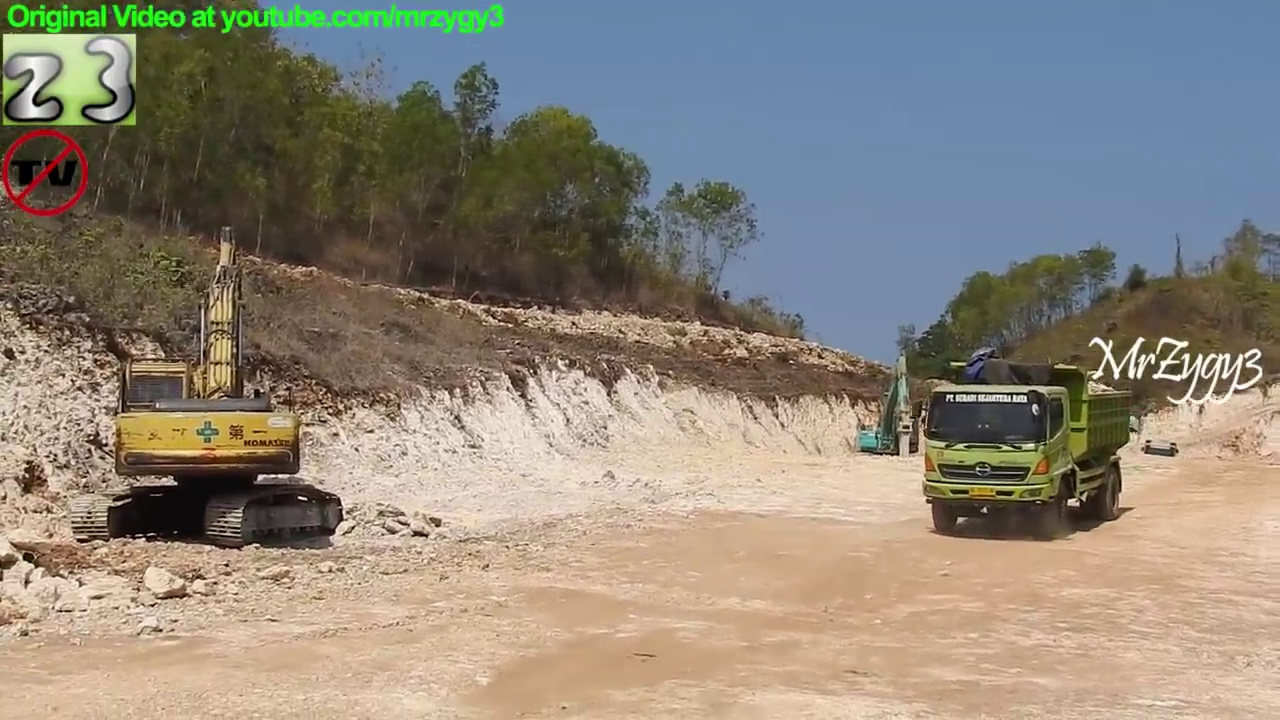excavator: (850, 345, 931, 474), (1057, 390, 1141, 455)
excavator breaker: (62, 217, 351, 554)
truck: (907, 355, 1138, 544), (1138, 436, 1184, 482)
